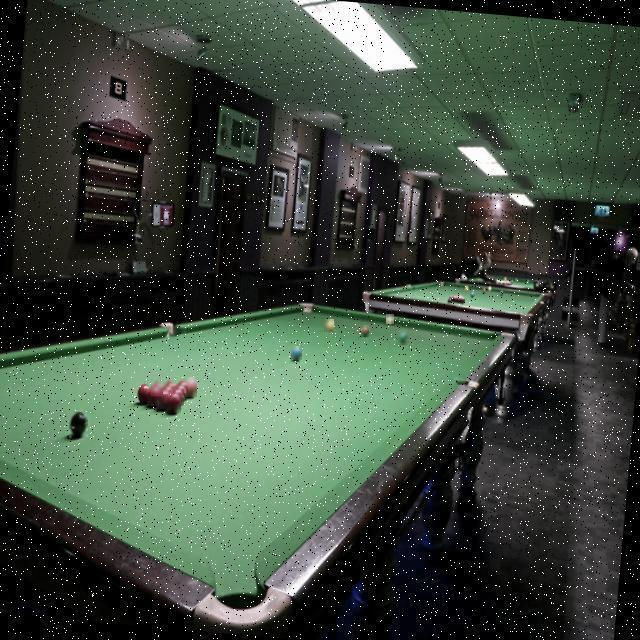Ball: (69, 412, 88, 438), (166, 392, 181, 413), (136, 383, 150, 403), (157, 388, 170, 409), (184, 377, 197, 397), (148, 386, 159, 406), (396, 330, 410, 345), (172, 387, 184, 404), (176, 378, 188, 395), (151, 381, 163, 396), (163, 379, 175, 394), (291, 346, 302, 360), (324, 319, 334, 332), (163, 385, 172, 397), (361, 325, 369, 337), (386, 314, 394, 324)
